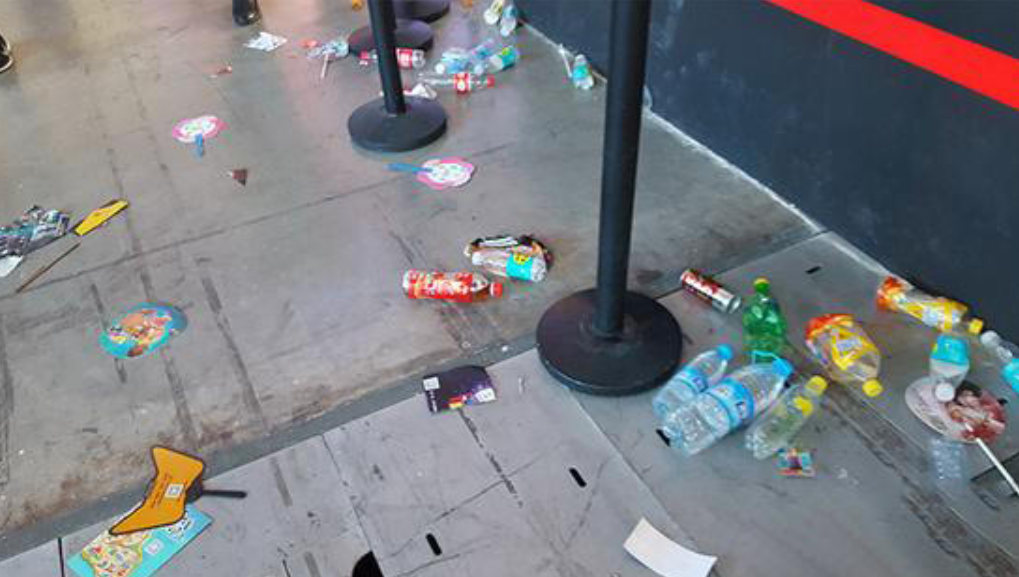garbage: (44, 422, 265, 577), (885, 338, 1019, 511), (637, 339, 835, 455), (867, 265, 1009, 337), (796, 311, 890, 400), (599, 518, 738, 577), (95, 297, 195, 374), (5, 196, 116, 262), (735, 275, 809, 364), (373, 146, 491, 195), (448, 227, 554, 280), (162, 112, 247, 174), (394, 263, 510, 307), (416, 370, 509, 416), (680, 255, 753, 310), (428, 42, 523, 83), (538, 38, 600, 91), (468, 1, 532, 33), (405, 69, 499, 90), (307, 34, 348, 78), (355, 42, 427, 65), (244, 27, 288, 52), (352, 46, 380, 69)
